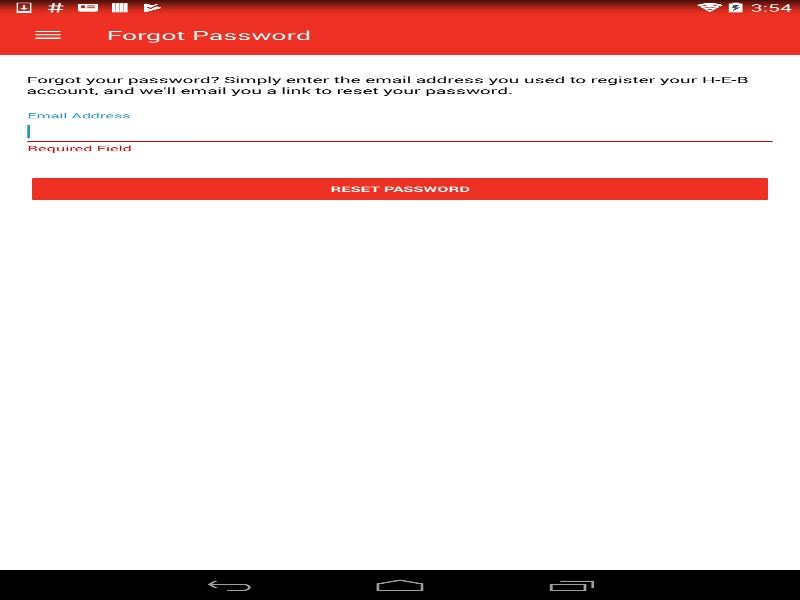Button: (26, 174, 773, 204), (10, 15, 85, 54)
Input: (22, 111, 778, 146)
